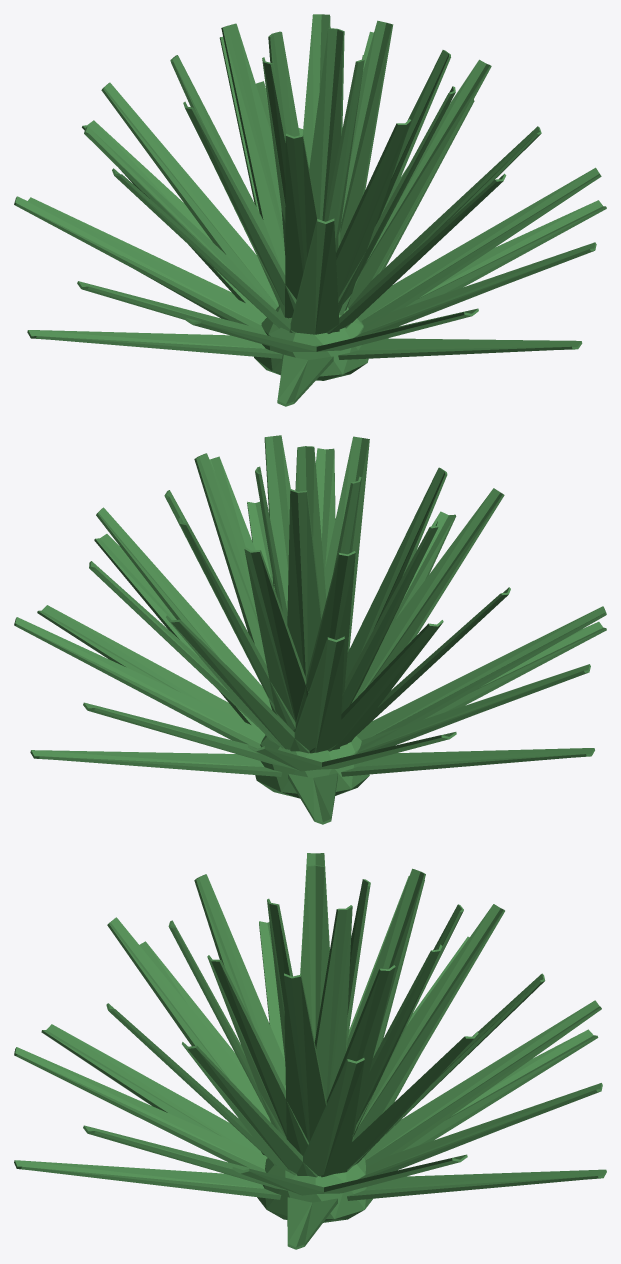
File: Yucca.fbx
3 renders of one model, top to bottom at view 1: azimuth 30°, elevation 25°; view 2: azimuth 150°, elevation 25°; view 3: azimuth 270°, elevation 25°, orthographic.
Parts seen in each view (by area): view 1: Yucca; view 2: Yucca; view 3: Yucca.
Part boxes in pixels (x1,y1,x2,y2): Yucca: (14, 14, 606, 406); Yucca: (14, 435, 606, 824); Yucca: (14, 853, 606, 1249).
Size of the model in its own units: 132 by 70.79 by 119.
